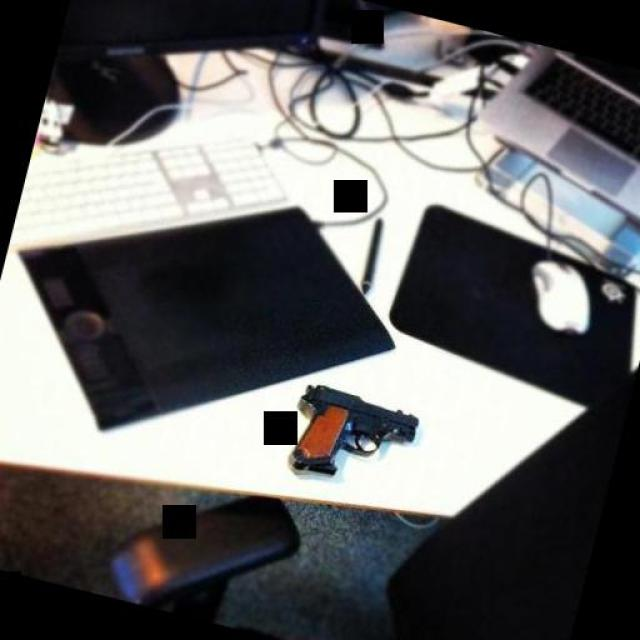gun: (278, 374, 424, 498)
